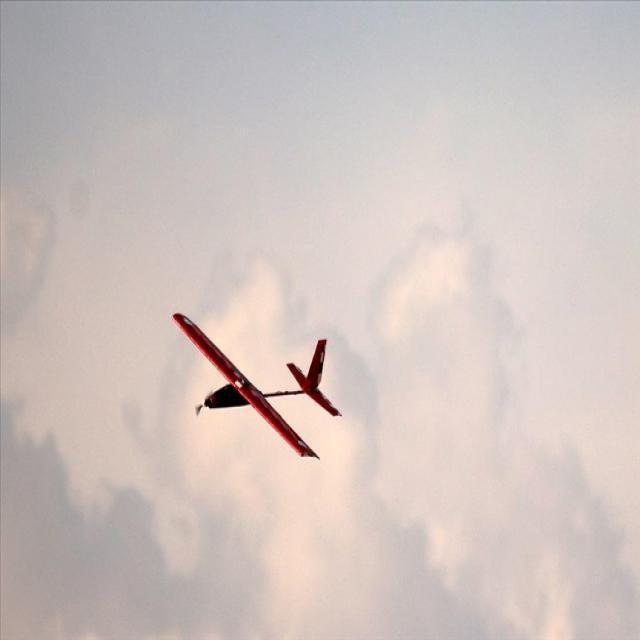UAV: (160, 288, 360, 486)
